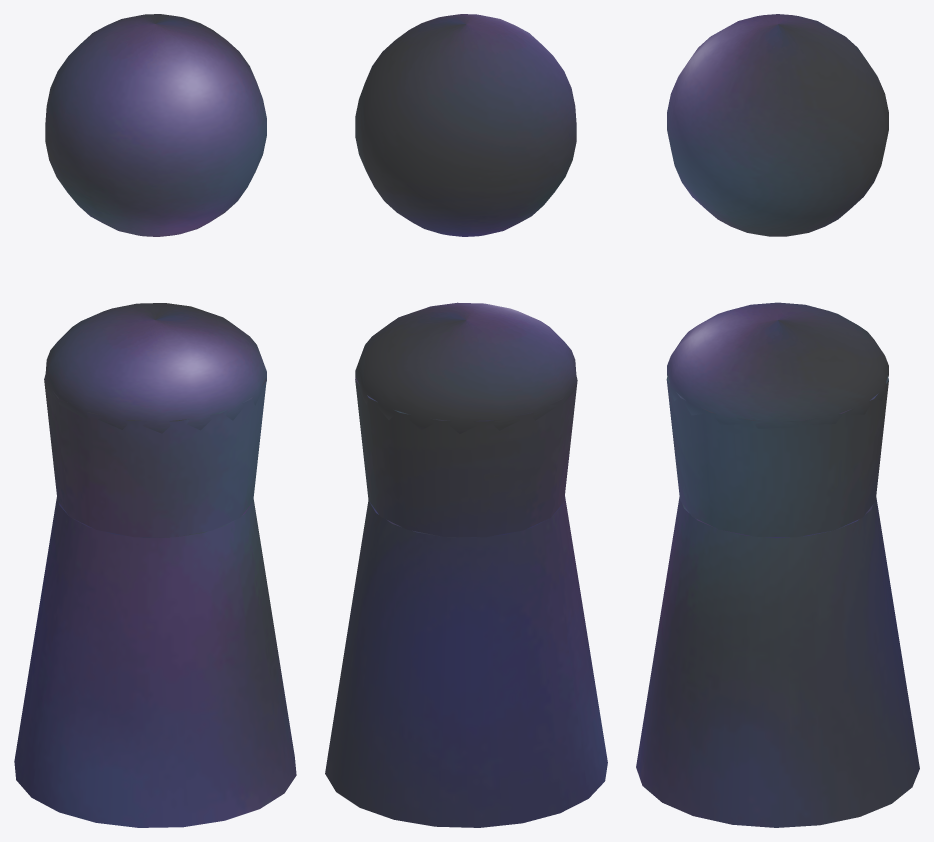
File: bottle_default.glb
3 renders of one model, left to right at view 1: azimuth 30°, elevation 25°; view 2: azimuth 150°, elevation 25°; view 3: azimuth 270°, elevation 25°, orthographic.
Visible parts, largest first — view 1: Object3D (×2); view 2: Object3D (×2); view 3: Object3D (×2).
Boxes of the visible parts, x1,y1,x2,y2 form: Object3D (×2): [14, 14, 296, 827]; Object3D (×2): [325, 14, 607, 827]; Object3D (×2): [636, 14, 919, 827].
Bounding box in the file's own units: 2.4 × 6.94 × 2.4.
Materials: 4 (4 with a texture image).
